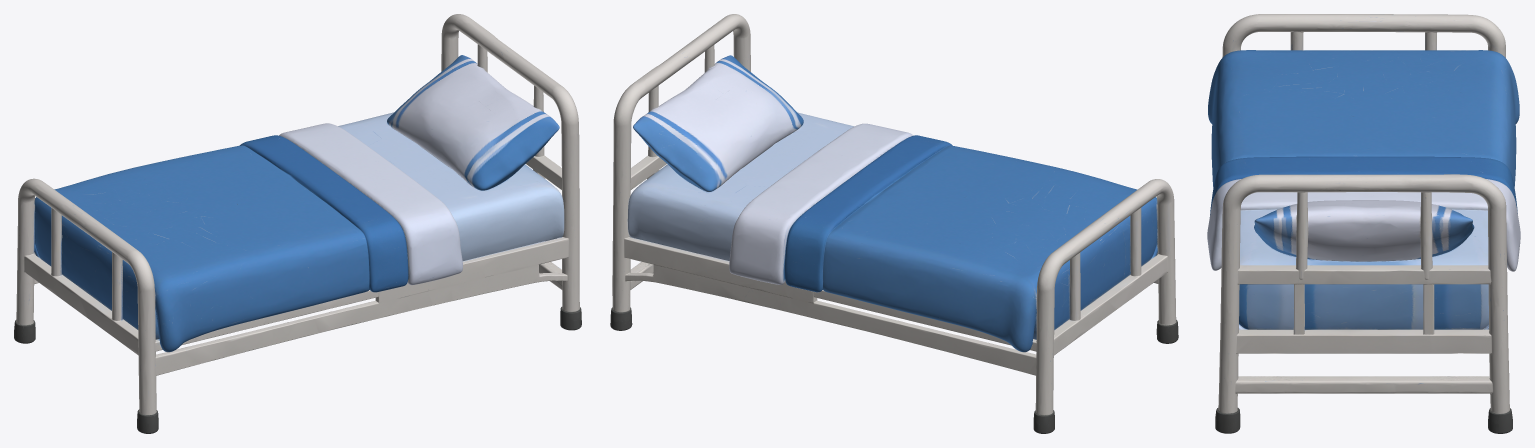
File: Meshy_AI_Hospital_Bed_1024115544_texture.fbx
The picture shows the model from 3 angles, left to right: view 1: azimuth 30°, elevation 25°; view 2: azimuth 150°, elevation 25°; view 3: azimuth 270°, elevation 25°; orthographic projection. The views are drawn at different scales.
Visible parts, largest first — view 1: Mesh_0; view 2: Mesh_0; view 3: Mesh_0.
Boxes of the visible parts, left/top/right/bottom form: Mesh_0: left=14, top=14, right=581, bottom=433; Mesh_0: left=610, top=14, right=1178, bottom=433; Mesh_0: left=1207, top=14, right=1520, bottom=433.
Size of the model in its own units: 190 by 95.14 by 106.
1 material, 1 textured.
